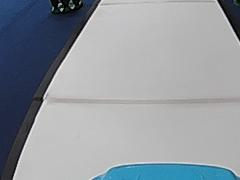corn: (50, 0, 80, 17)
